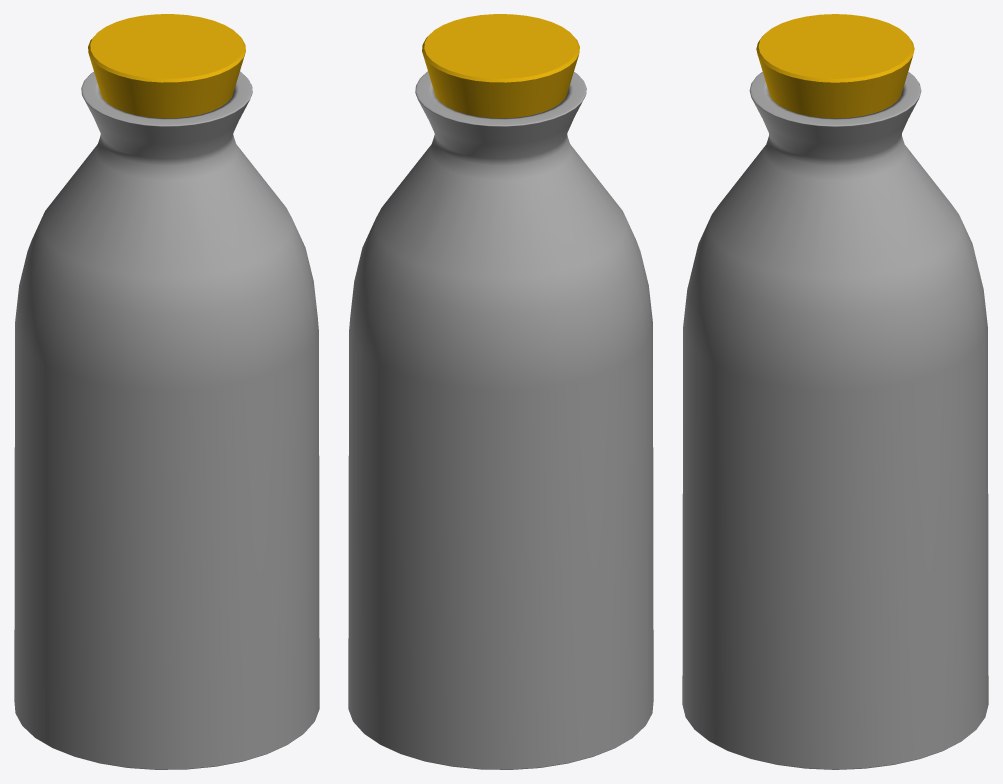
File: bottle.fbx
The picture shows the model from 3 angles, left to right: view 1: azimuth 30°, elevation 25°; view 2: azimuth 150°, elevation 25°; view 3: azimuth 270°, elevation 25°; orthographic projection.
Visible parts, largest first — view 1: polySurface5, polySurface6; view 2: polySurface5, polySurface6; view 3: polySurface5, polySurface6.
Boxes of the visible parts, x1,y1,x2,y2 form: polySurface5: (14, 71, 319, 769); polySurface6: (88, 14, 245, 118); polySurface5: (348, 71, 653, 769); polySurface6: (422, 14, 579, 118); polySurface5: (682, 72, 988, 769); polySurface6: (756, 14, 914, 118).
Bounding box in the file's own units: 226 × 539 × 226.
